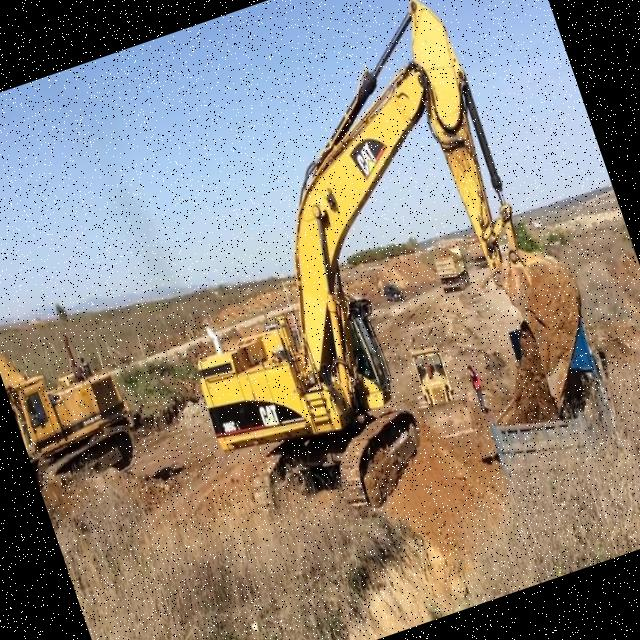Dump Truck: (464, 310, 628, 499), (428, 240, 473, 294)
Excavator: (98, 0, 628, 555), (0, 283, 144, 495)
Loader: (396, 336, 479, 446)
